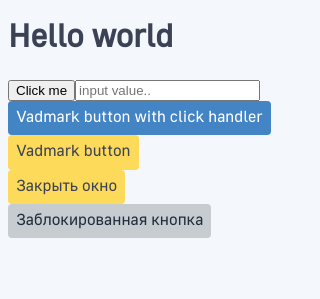
Scenario: App tests › Test input user event
Type "vadmark" into the field with test id "input-id".
click(168, 90); type("vadmark")  # box [75, 80, 260, 101]
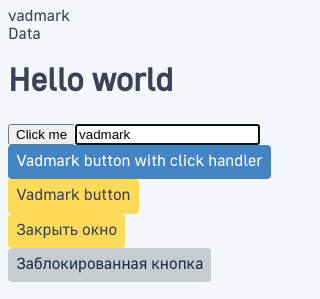
Expected: the text with test id "input-value" reads "vadmark", [8, 10, 70, 24]
